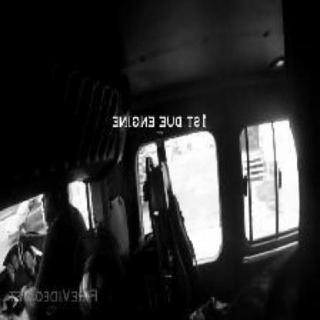other: (187, 124, 221, 254)
